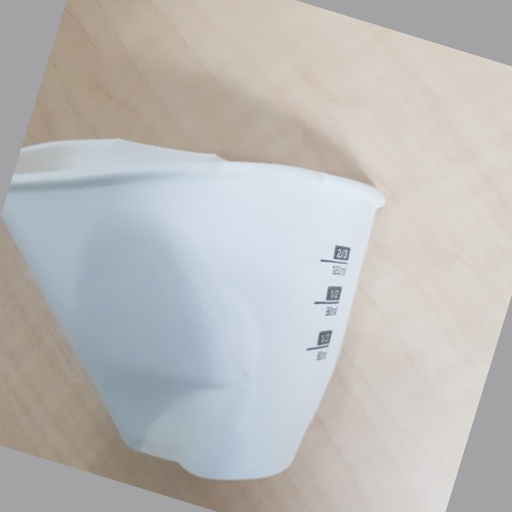Paper_1: (4, 139, 384, 483)
